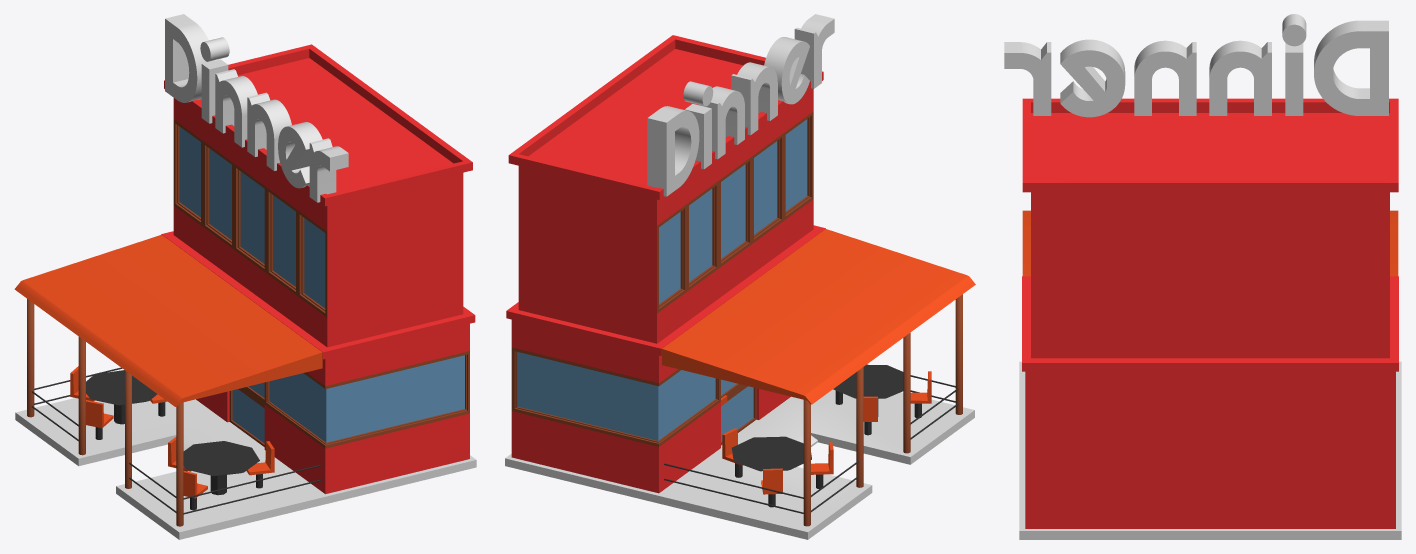
The model's file is Shop_Dinner_A.fbx.
3 views of the same model, side by side, from view 1: azimuth 30°, elevation 25°; view 2: azimuth 150°, elevation 25°; view 3: azimuth 270°, elevation 25° (orthographic). The views are drawn at different scales.
Visible parts, largest first — view 1: Shop_Dinner_A; view 2: Shop_Dinner_A; view 3: Shop_Dinner_A.
Part boxes in pixels (box(x1,y1,x2,y2)): Shop_Dinner_A: box(14, 14, 476, 539); Shop_Dinner_A: box(505, 14, 975, 539); Shop_Dinner_A: box(1004, 14, 1401, 539).
Bounding box in the file's own units: 121 × 145 × 119.
